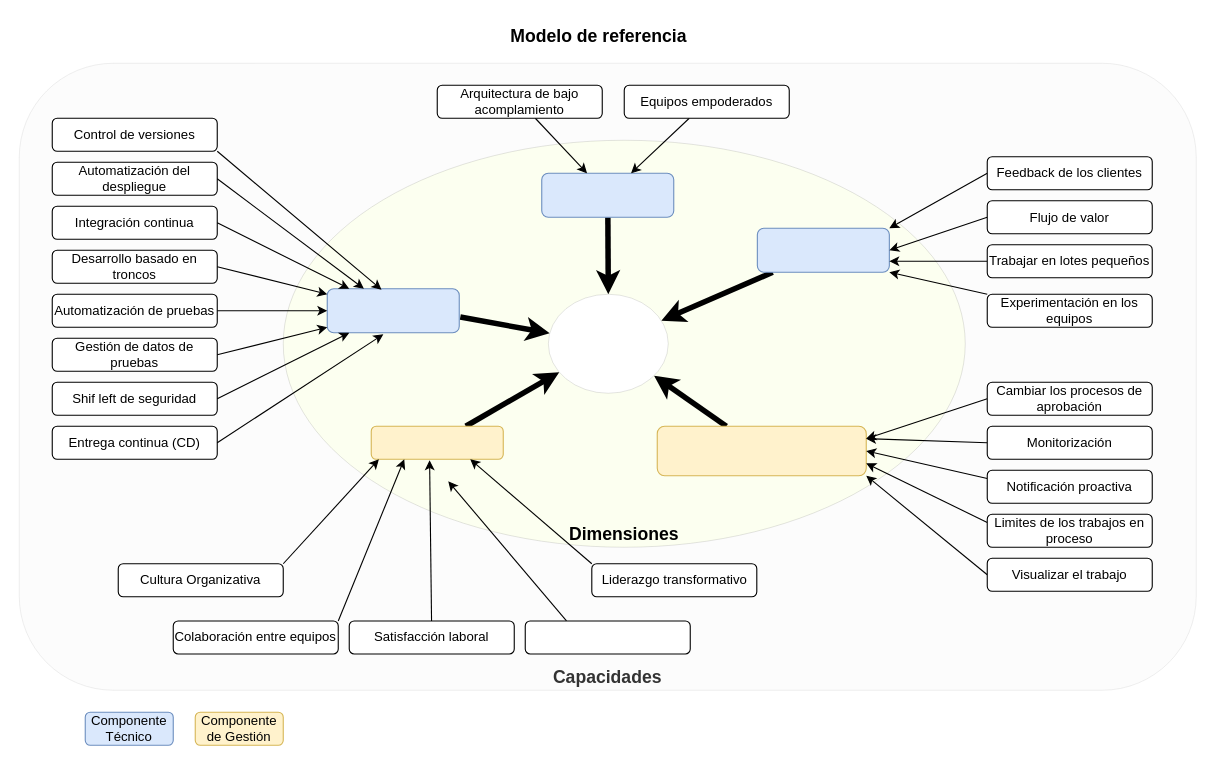
Image size: 1214x765. Some labels were removed from this diagram. The centre of each missing label's shape, as x and y in pixels:
"Apoyar el aprendizaje" goes at (607,637).
"Arquitectura" goes at (607,194).
"Cultura" goes at (436,442).
"DevOps" goes at (608,343).
"Entrega continua" goes at (392,310).
"Gestión Lean y Monitorización" goes at (761,450).
"Producto y Procesos" goes at (822,249).
